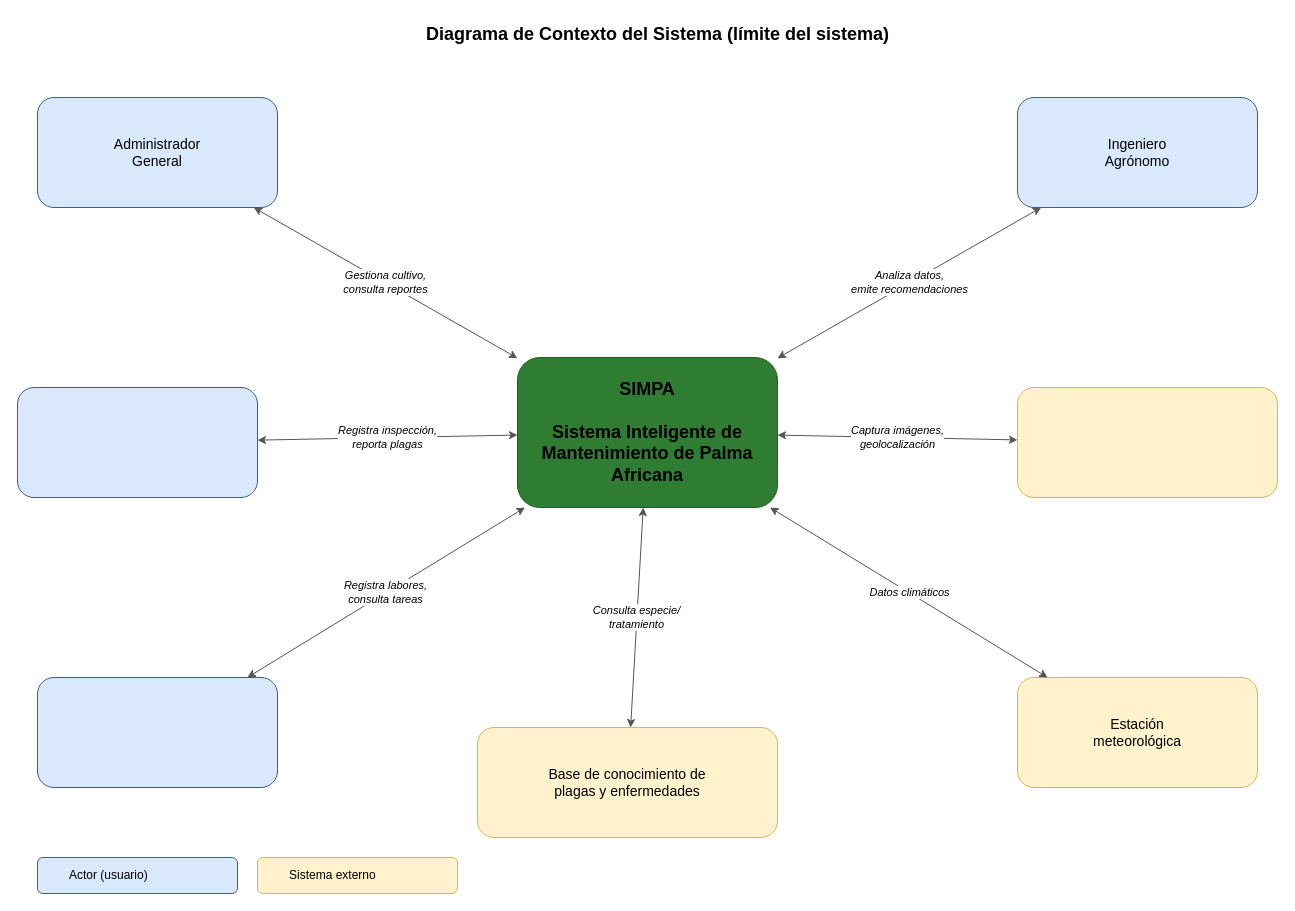
This 1295x911 diagram has some shape labels left out. The centre of each missing label's shape, as x and y in pixels:
Dispositivo móvil (cámara / GPS): the point at 1147,442
Trabajador Agrícola: the point at 157,732
Técnico Fitosanitario: the point at 137,442
